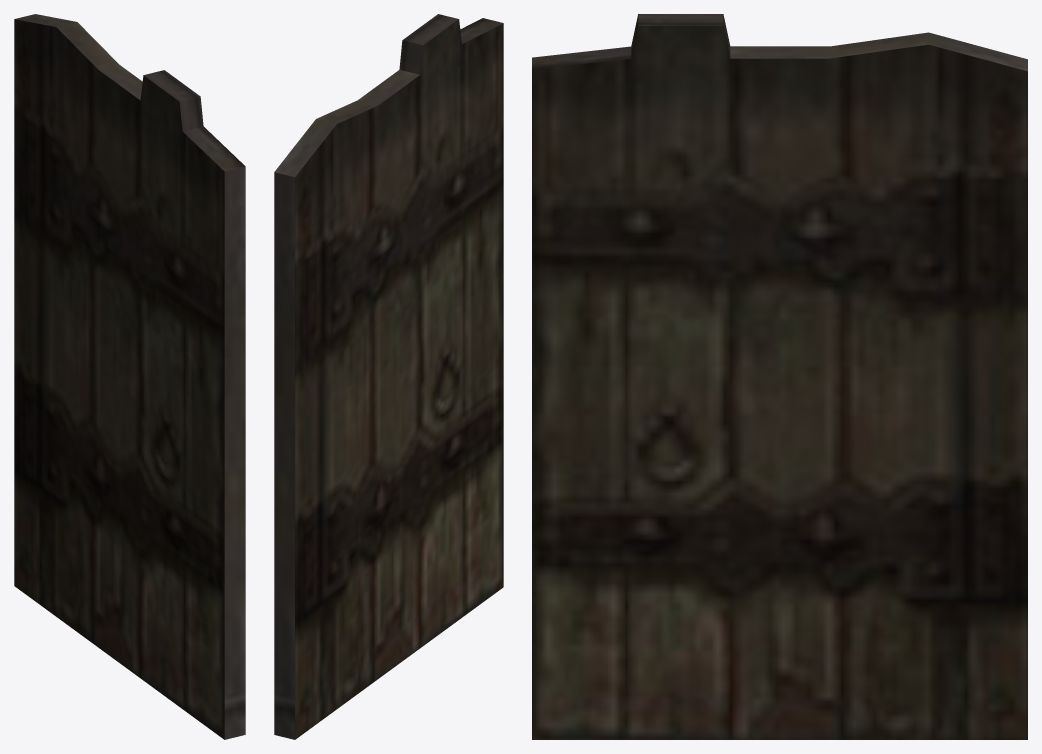
The model's file is Battle05_Gate_01.FBX.
The picture shows the model from 3 angles, left to right: view 1: azimuth 30°, elevation 25°; view 2: azimuth 150°, elevation 25°; view 3: azimuth 270°, elevation 25°; orthographic projection. The views are drawn at different scales.
Visible parts, largest first — view 1: Battle05_Gate_01; view 2: Battle05_Gate_01; view 3: Battle05_Gate_01.
Boxes of the visible parts, left/top/right/bottom form: Battle05_Gate_01: left=14, top=14, right=245, bottom=739; Battle05_Gate_01: left=274, top=14, right=503, bottom=739; Battle05_Gate_01: left=532, top=14, right=1027, bottom=739.
Size of the model in its own units: 0.1282 by 3.53 by 2.22.
